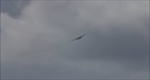maybay_muctieu: (73, 33, 85, 43)
